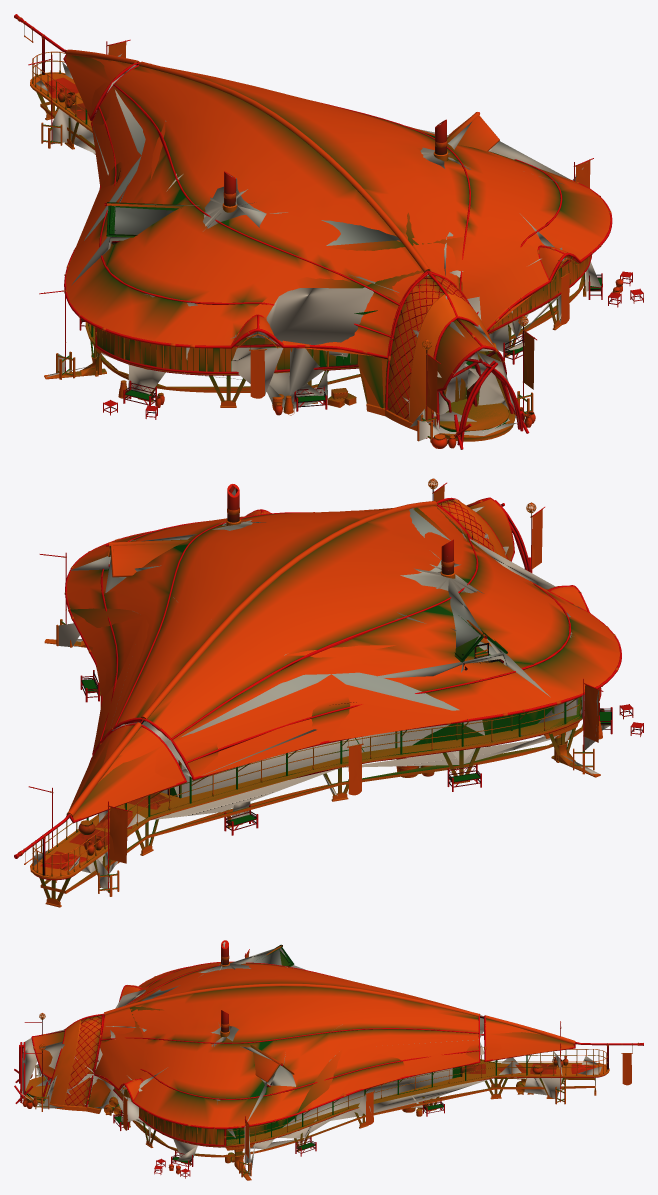
Rendered from KB3D_GAE_BldgMD_I.glb.
3 renders of one model, top to bottom at view 1: azimuth 30°, elevation 25°; view 2: azimuth 150°, elevation 25°; view 3: azimuth 270°, elevation 25°, orthographic. The views are drawn at different scales.
Parts seen in each view (by area): view 1: L0, L1, L2; view 2: L0, L1, L2; view 3: L0, L1, L2.
Boxes of the visible parts, bbox=[...] form: L0: bbox=[14, 14, 643, 449]; L1: bbox=[15, 17, 605, 446]; L2: bbox=[36, 54, 600, 440]; L0: bbox=[14, 478, 643, 907]; L1: bbox=[15, 485, 610, 899]; L2: bbox=[34, 488, 610, 891]; L0: bbox=[14, 940, 643, 1180]; L1: bbox=[16, 940, 631, 1180]; L2: bbox=[21, 942, 601, 1176].
Bounding box in the file's own units: 32.43 × 10.09 × 48.68.
